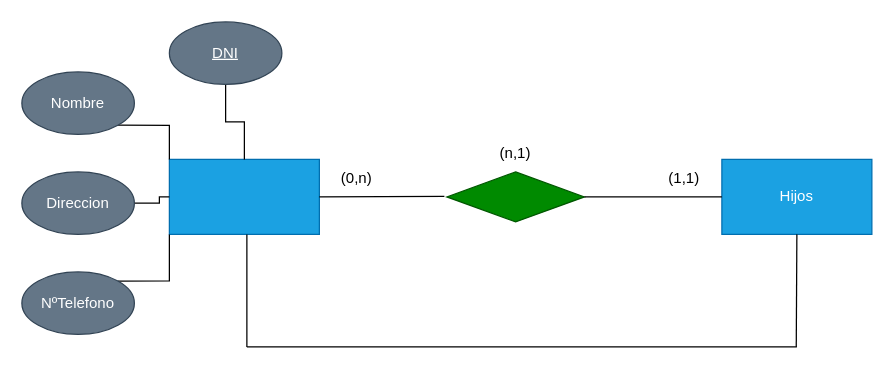
The diagram is 894 pixels wide and 370 high, and some of its shapes have lost their labels. Here are the shapes that lost their labels. From the top down, the centre of each, then its label:
At pixel 243 196: "Personas".
At pixel 515 196: "Tienen".
